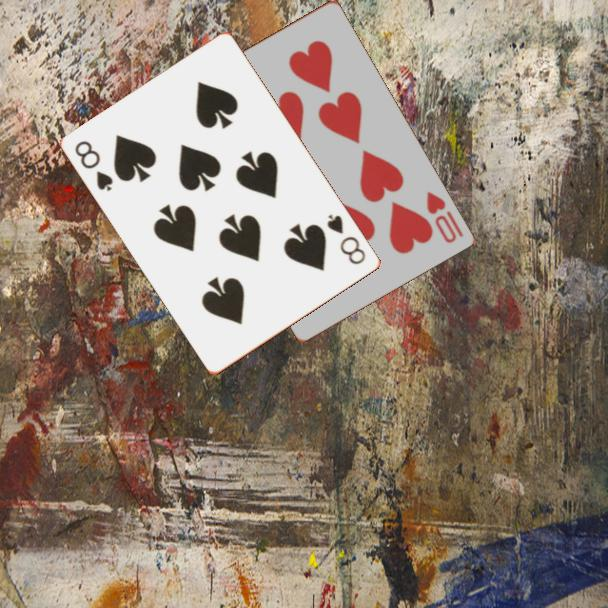h10: (422, 188, 466, 246)
s08: (324, 210, 369, 268), (72, 137, 116, 195)
